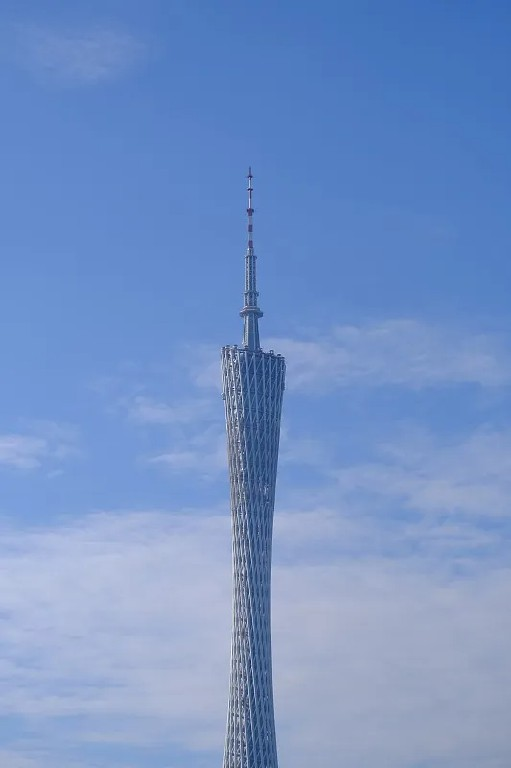Canton: (219, 165, 289, 768)
